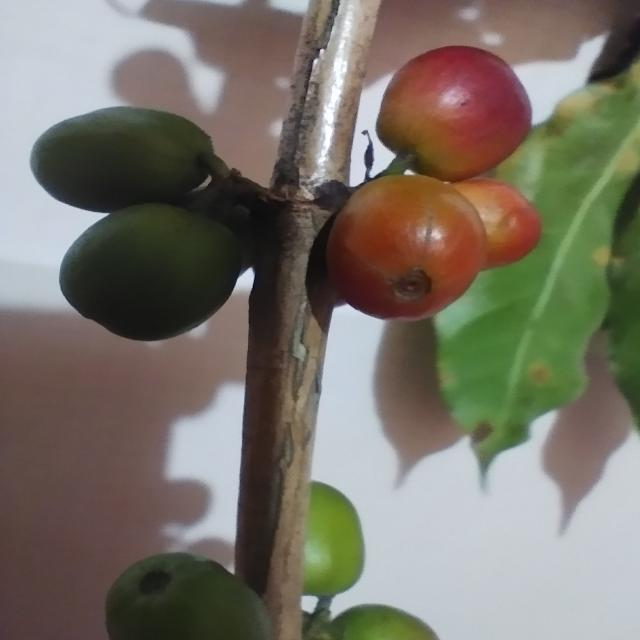Sano: (57, 201, 250, 345), (327, 175, 487, 321), (375, 46, 534, 187), (30, 106, 217, 215)
